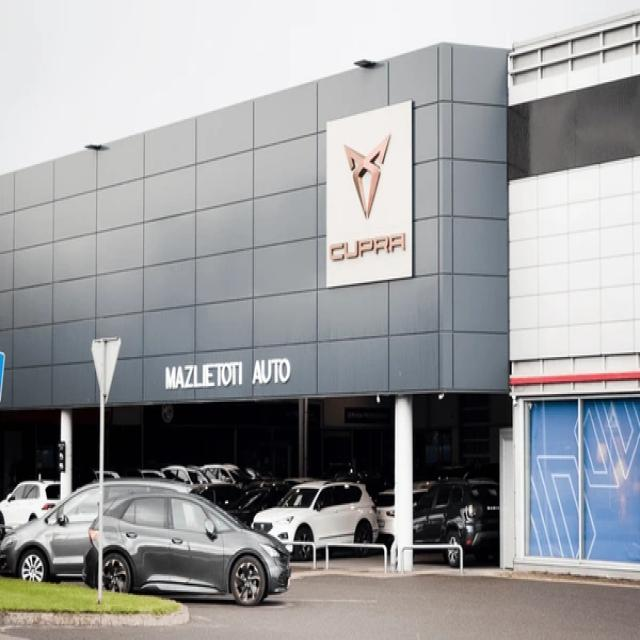cupra: (344, 135, 391, 221)
